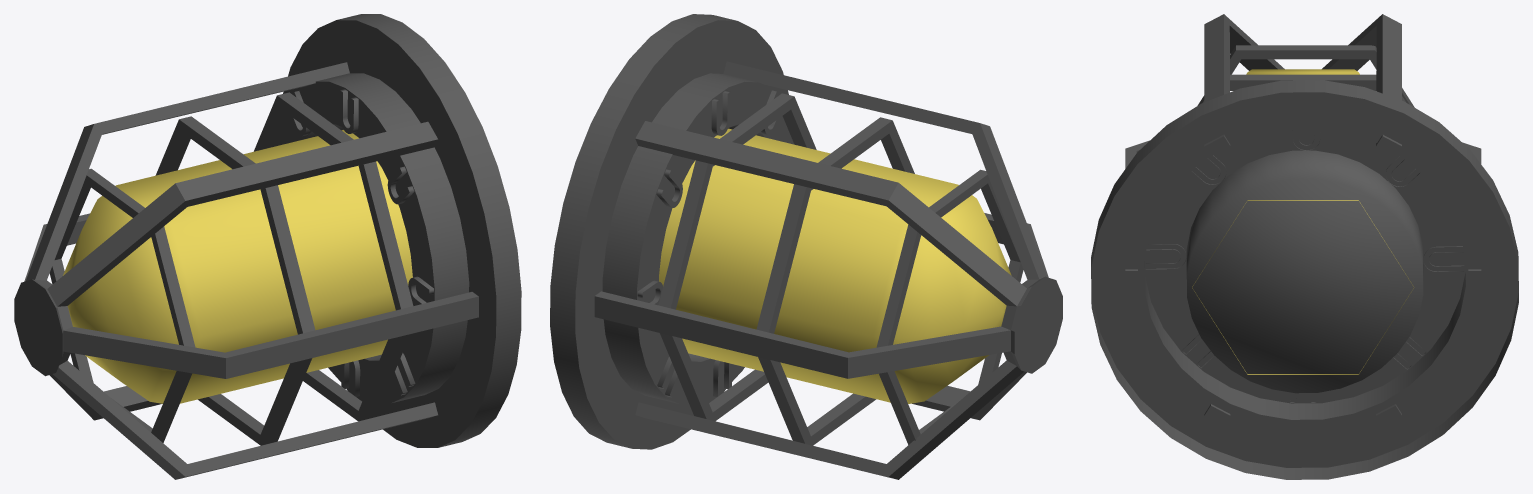
The model's file is lighter 1.fbx.
3 renders of one model, left to right at view 1: azimuth 30°, elevation 25°; view 2: azimuth 150°, elevation 25°; view 3: azimuth 270°, elevation 25°, orthographic. The views are drawn at different scales.
Parts seen in each view (by area): view 1: Cube.015, Cylinder; view 2: Cube.015, Cylinder; view 3: Cube.015, Cylinder.
Boxes of the visible parts, x1,y1,x2,y2 form: Cube.015: (14, 14, 521, 479); Cylinder: (63, 130, 412, 403); Cube.015: (550, 14, 1062, 479); Cylinder: (659, 128, 1011, 403); Cube.015: (1091, 14, 1518, 479); Cylinder: (1192, 69, 1414, 374).
Size of the model in its own units: 37.48 by 37.77 by 37.77.
